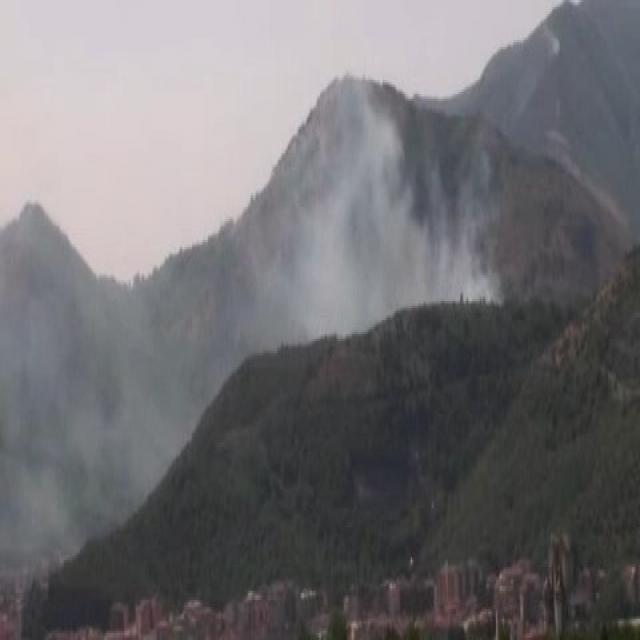smoke: (278, 119, 485, 331), (46, 296, 168, 488)
